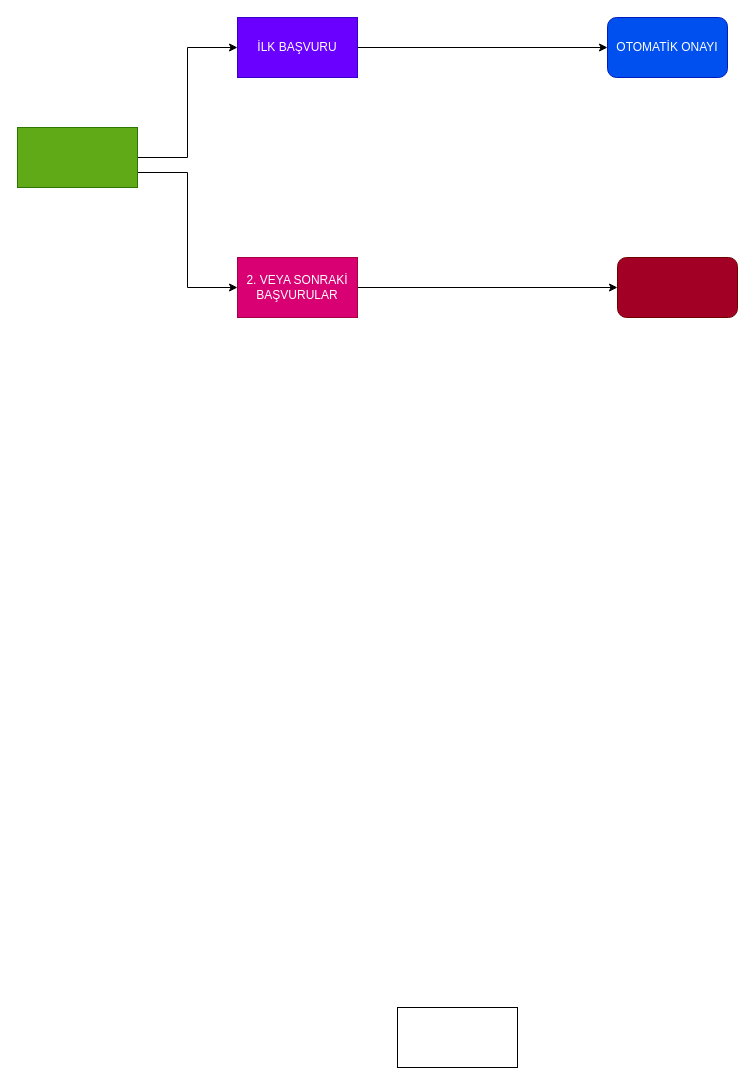
The diagram is 755 pixels wide and 1085 high, and some of its shapes have lost their labels. Each missing label, with the centre of its shape:
"BAŞVURU DURUMU" goes at point 77,157.
"PSİKOLOG ONAYINA GÖNDERME" goes at point 677,287.
